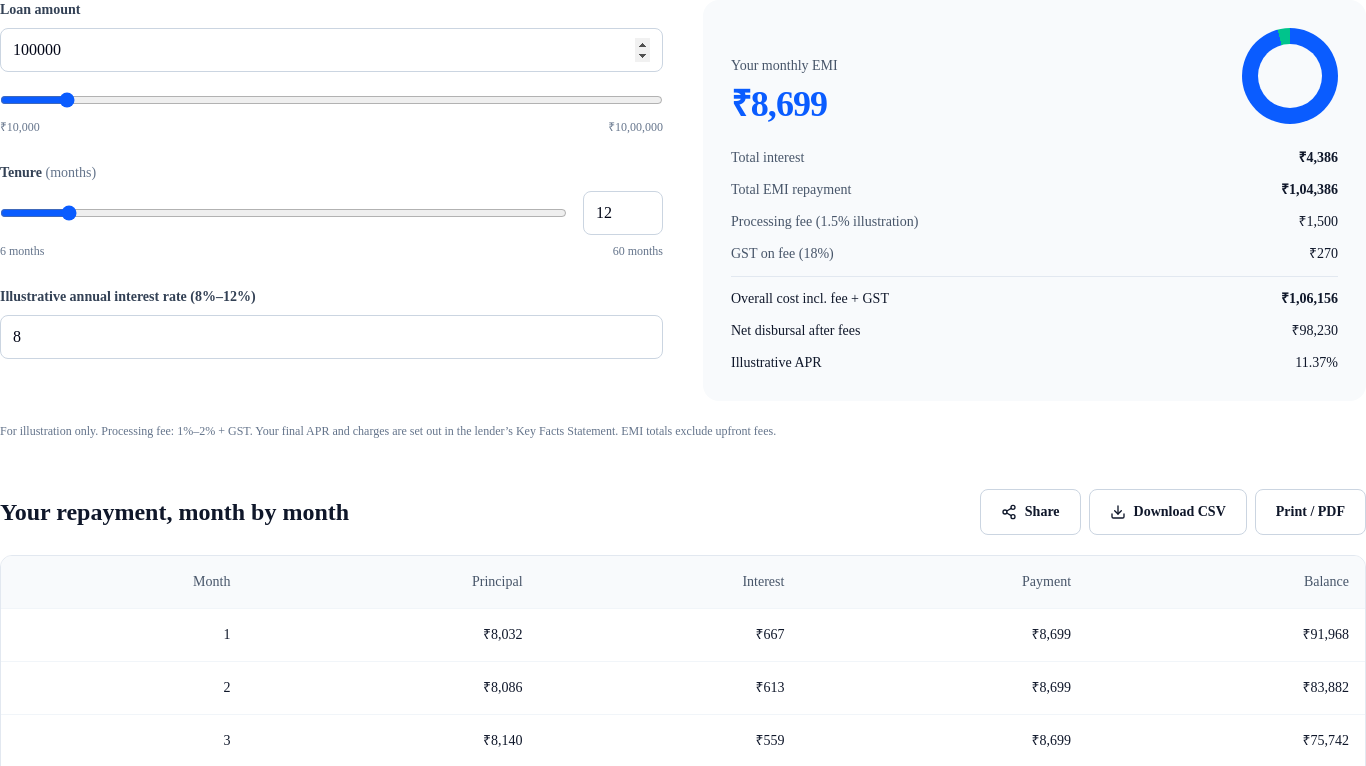
Test: sliders, export, sharing and print work
Step 1. Set the slider named "Loan amount slider" to "200000" → (132, 100), box [0, 88, 663, 112]
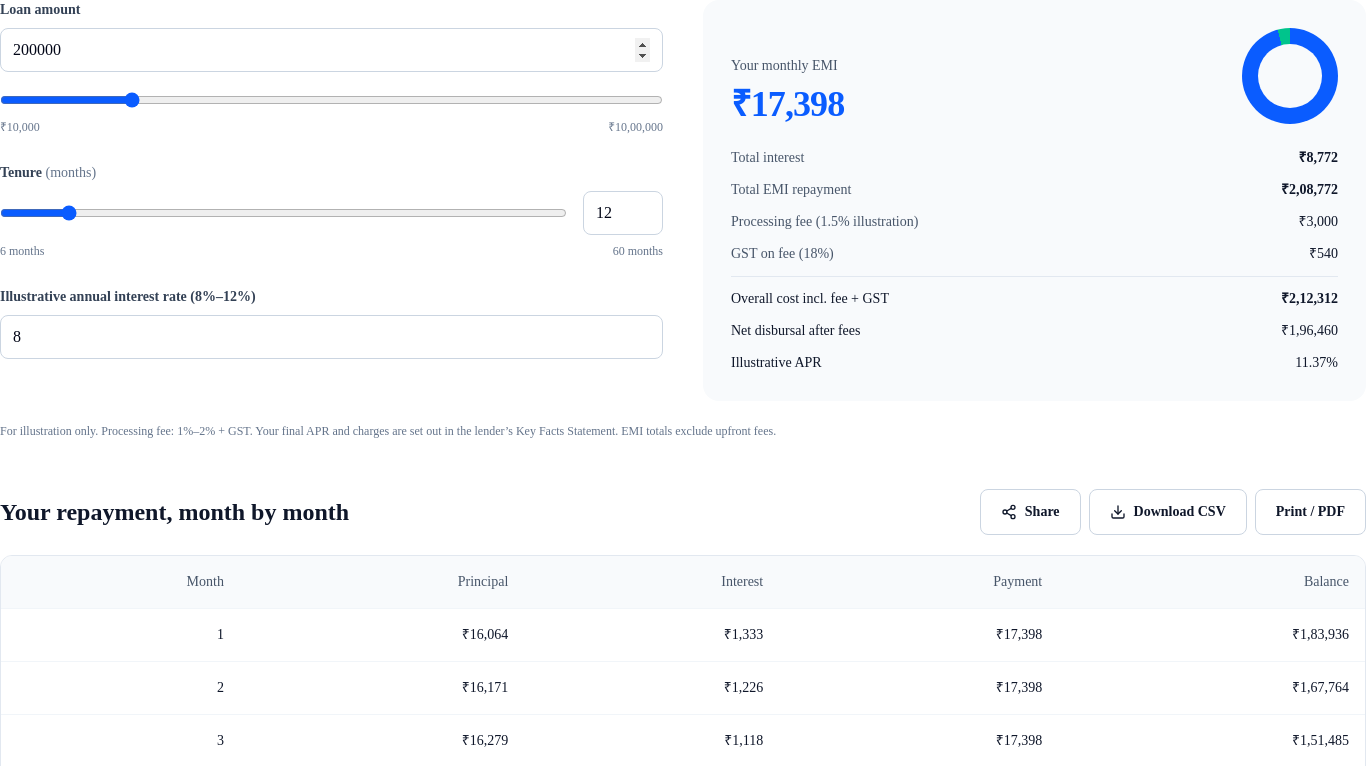
Step 2. Set the slider named "Tenure slider" to "36" → (314, 213), box [0, 201, 567, 225]
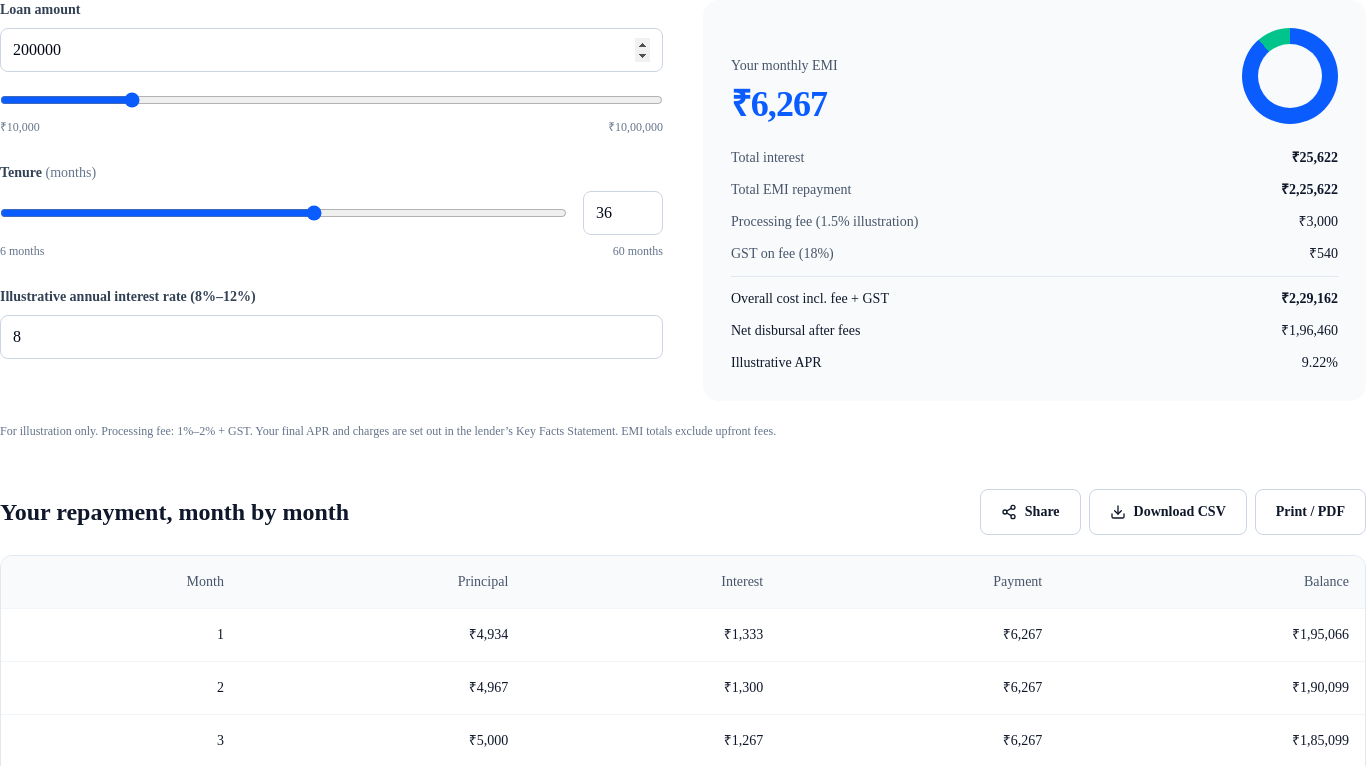
Step 3. Click the button "Download CSV" → (1168, 512), box [1089, 489, 1247, 535]
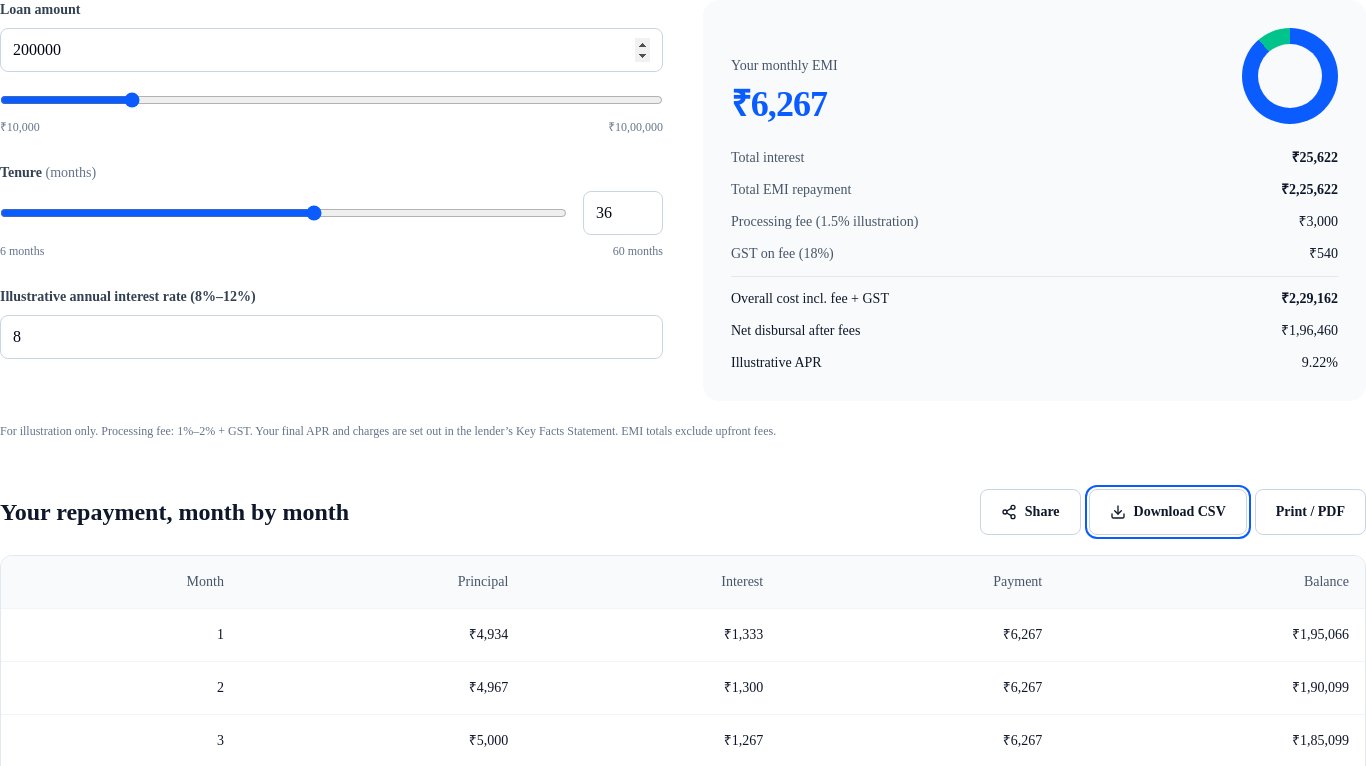
Step 4. Click the button "Print / PDF" → (1310, 512), box [1255, 489, 1365, 535]
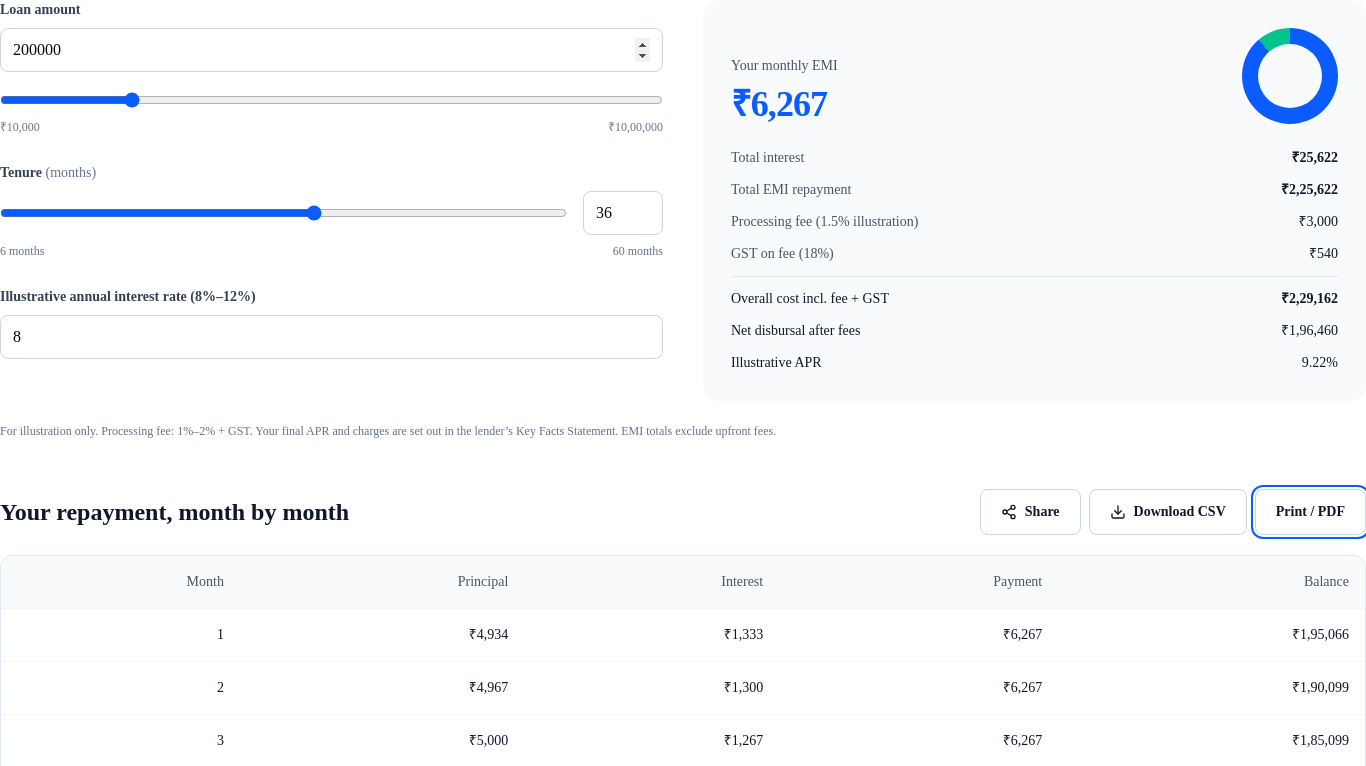
Step 5. Click the button "Share" → (1030, 512), box [980, 489, 1081, 535]
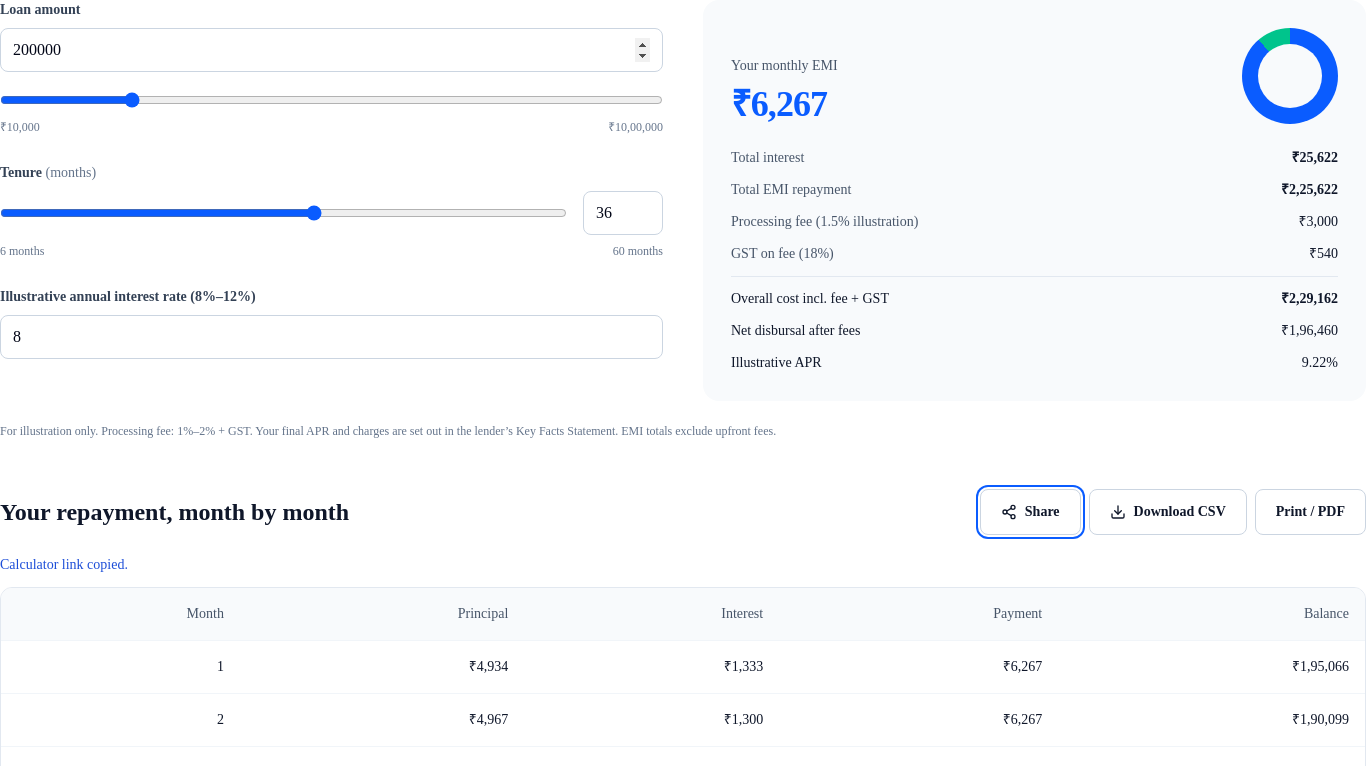
Check: the message shows "copied", box [0, 557, 128, 572]
